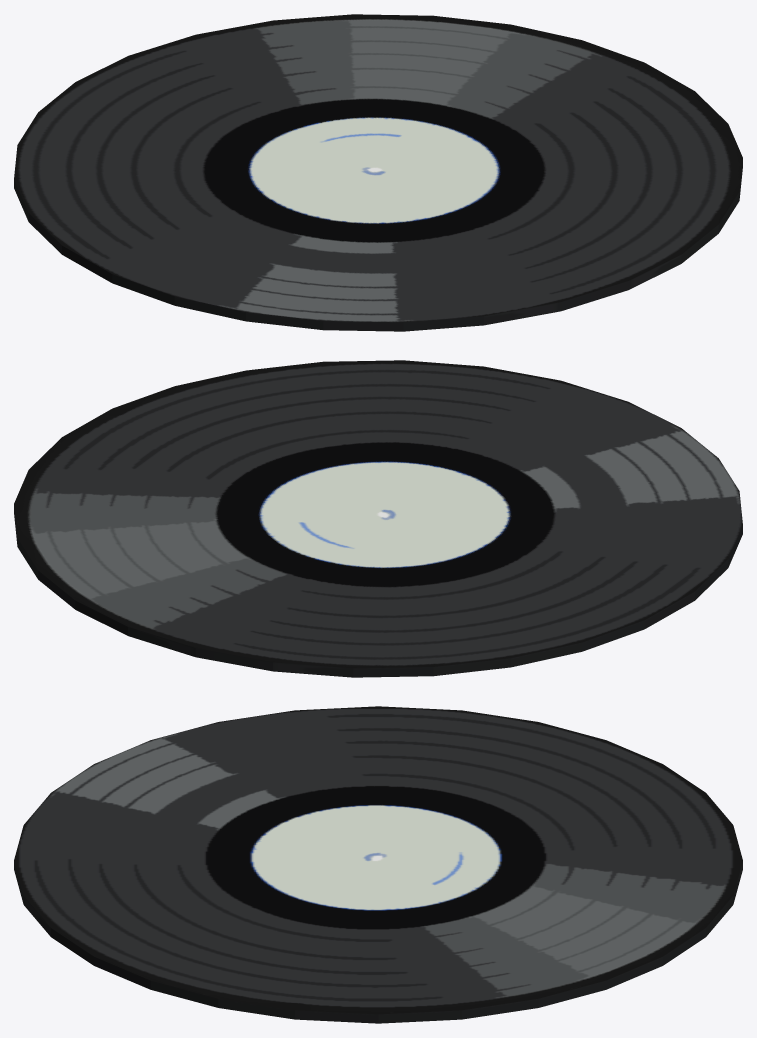
The model's file is vinyl.FBX.
The picture shows the model from 3 angles, top to bottom: view 1: azimuth 30°, elevation 25°; view 2: azimuth 150°, elevation 25°; view 3: azimuth 270°, elevation 25°; orthographic projection.
Parts seen in each view (by area): view 1: platten; view 2: platten; view 3: platten.
Boxes of the visible parts, bbox=[...] form: platten: bbox=[14, 14, 742, 331]; platten: bbox=[14, 360, 742, 677]; platten: bbox=[14, 706, 742, 1023].
Size of the model in its own units: 0.3164 by 0.00442 by 0.3164.
Materials: 1 (1 with a texture image).
